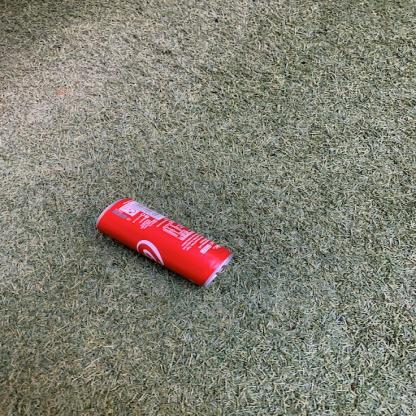trash: (90, 198, 245, 290)
